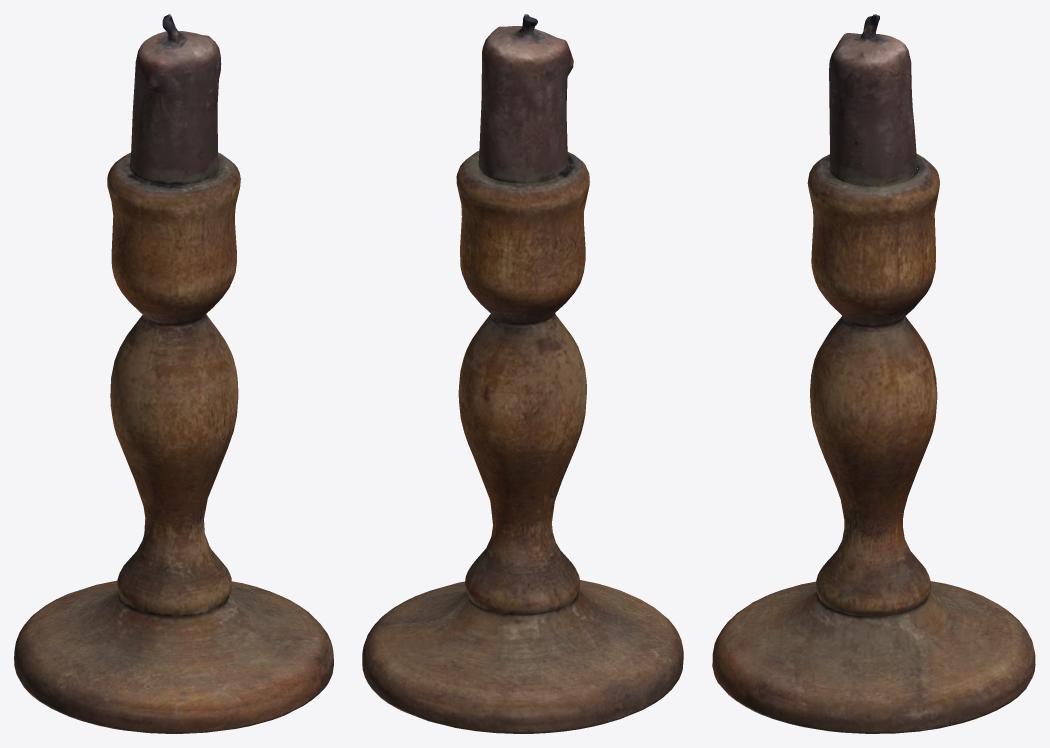
Rendered from wooden_candlestick.glb.
3 views of the same model, side by side, from view 1: azimuth 30°, elevation 25°; view 2: azimuth 150°, elevation 25°; view 3: azimuth 270°, elevation 25° (orthographic).
Visible parts, largest first — view 1: wooden_candlestick; view 2: wooden_candlestick; view 3: wooden_candlestick.
Boxes of the visible parts, bbox=[...] form: wooden_candlestick: bbox=[14, 14, 333, 733]; wooden_candlestick: bbox=[362, 14, 683, 733]; wooden_candlestick: bbox=[712, 14, 1035, 733].
Size of the model in its own units: 0.0972 by 0.2196 by 0.0986.
Materials: 1 (1 with a texture image).
